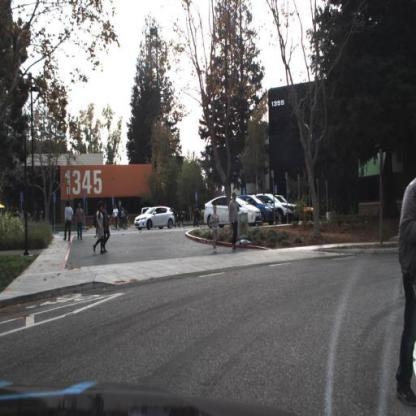biker: (115, 204, 127, 234)
car: (204, 196, 263, 234), (254, 193, 298, 226), (132, 204, 179, 233), (237, 195, 278, 226), (131, 206, 177, 231), (276, 192, 298, 224), (102, 203, 112, 254)
pedestrian: (376, 152, 398, 343), (91, 206, 108, 262), (228, 193, 243, 253), (210, 205, 222, 254), (102, 204, 111, 259), (63, 202, 75, 242), (74, 201, 85, 242), (75, 200, 85, 243), (179, 209, 187, 229), (194, 204, 200, 229)
